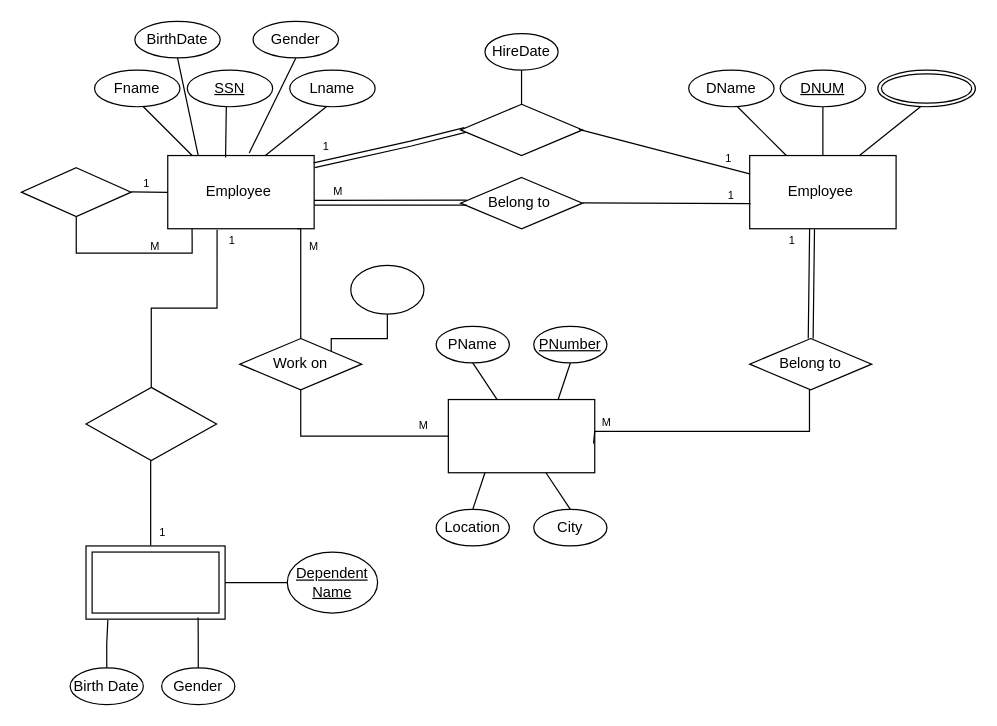
Some shapes in this 997 by 726 pixel diagram are drawn without their labels. Here are the shapes that lost their labels. From the top down, the box of each, then its label:
(877, 69, 975, 107): Locations
(459, 103, 583, 156): Manage
(20, 167, 131, 217): Supervise
(350, 264, 424, 314): Working Hours
(85, 386, 217, 461): Associated with
(447, 398, 595, 473): Project
(85, 545, 225, 619): Dependent
